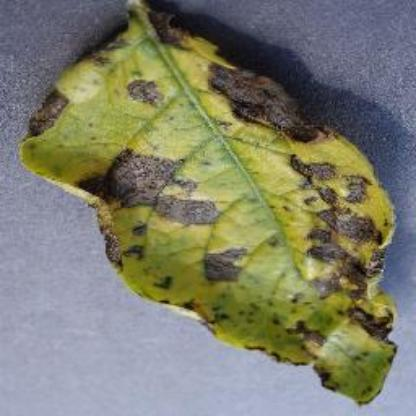Early-Blight: (20, 3, 400, 405)
